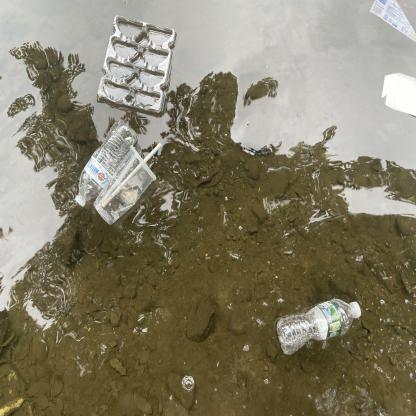Plastic: (68, 119, 166, 224), (93, 13, 182, 118), (273, 291, 365, 360), (370, 0, 416, 53)
Trash: (378, 68, 416, 118)
